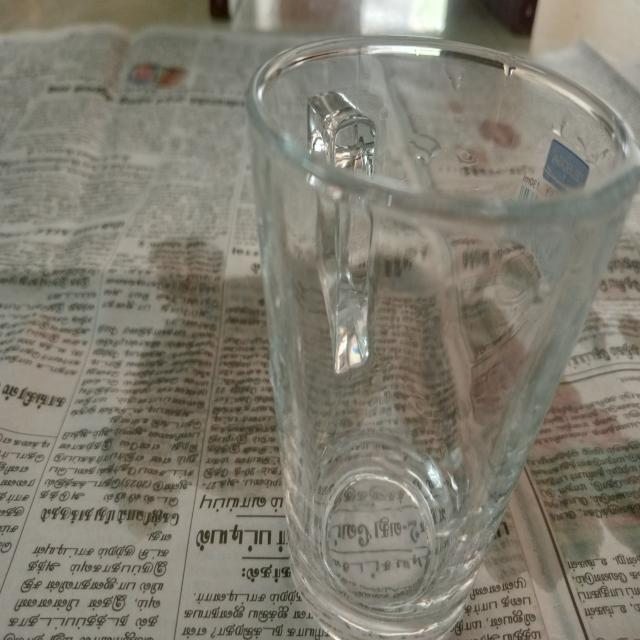glass-VX4N: (244, 32, 640, 640)
